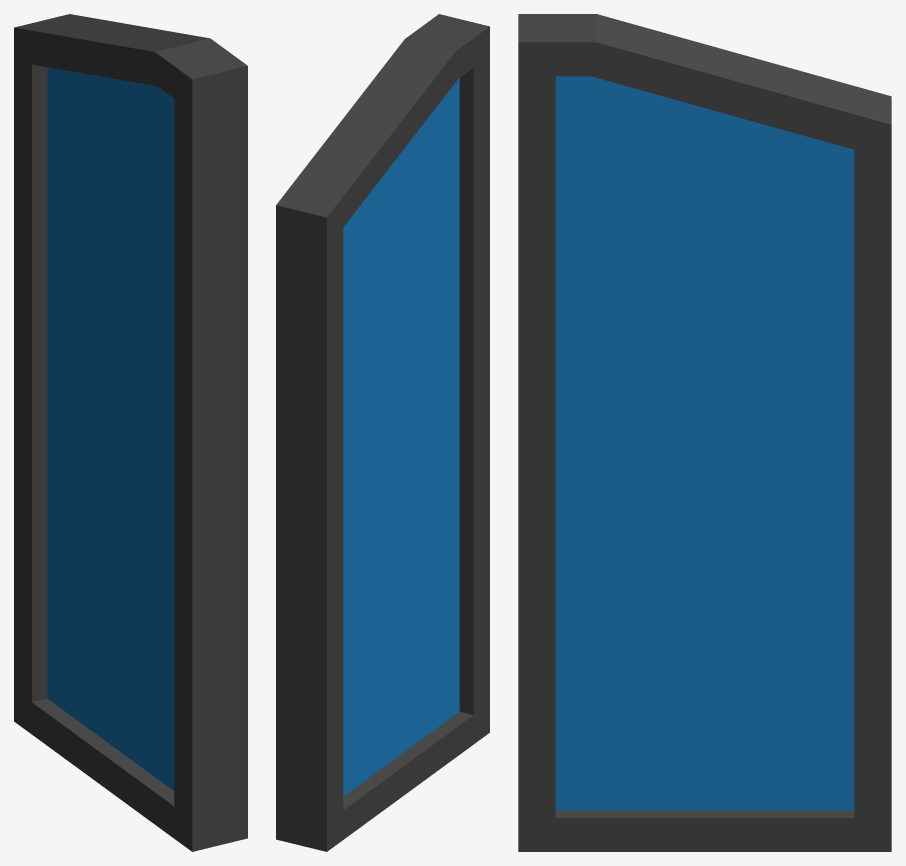
File: Gate_01.fbx
3 renders of one model, left to right at view 1: azimuth 30°, elevation 25°; view 2: azimuth 150°, elevation 25°; view 3: azimuth 270°, elevation 25°, orthographic. The views are drawn at different scales.
Parts seen in each view (by area): view 1: Cube; view 2: Cube; view 3: Cube.
Part boxes in pixels (x1=…): Cube: x1=14, y1=14, x2=247, y2=851; Cube: x1=276, y1=14, x2=489, y2=851; Cube: x1=518, y1=14, x2=891, y2=851.
Size of the model in its own units: 36.04 by 478 by 200.
